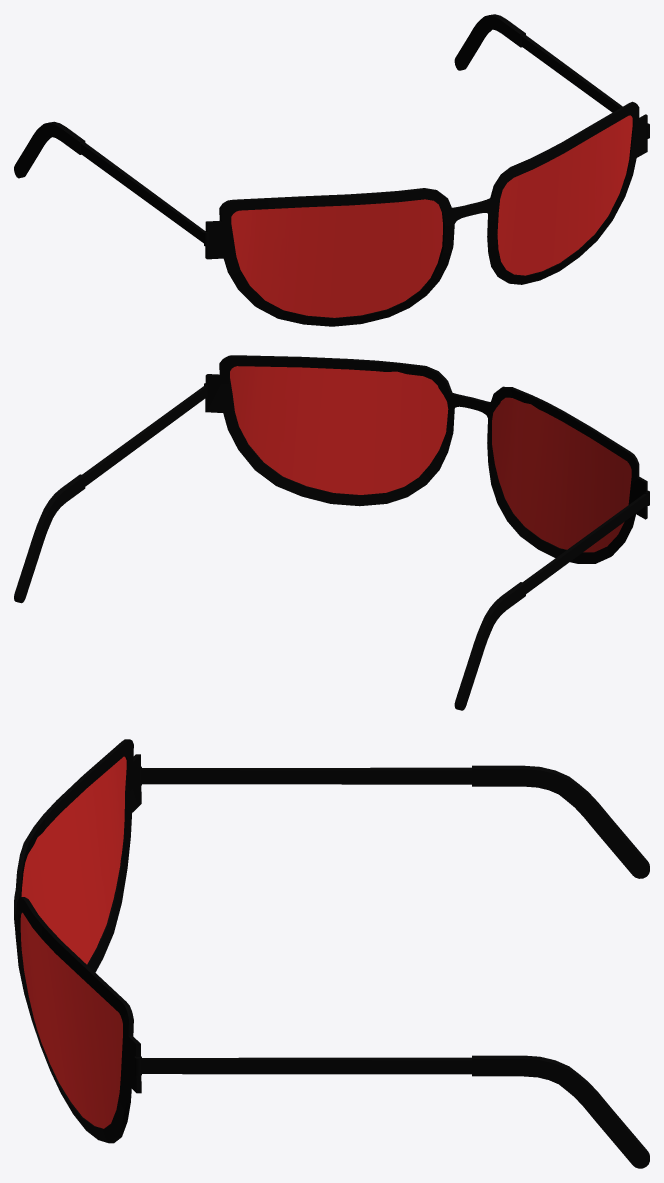
File: glasses11.001.fbx
The picture shows the model from 3 angles, top to bottom: view 1: azimuth 30°, elevation 25°; view 2: azimuth 150°, elevation 25°; view 3: azimuth 270°, elevation 25°; orthographic projection. The views are drawn at different scales.
Visible parts, largest first — view 1: glasses11.001; view 2: glasses11.001; view 3: glasses11.001.
Part boxes in pixels (x1,y1,x2,y2): glasses11.001: (14, 14, 649, 326); glasses11.001: (14, 355, 649, 710); glasses11.001: (14, 739, 649, 1168).
Size of the model in its own units: 2.02 by 0.594 by 1.85.
